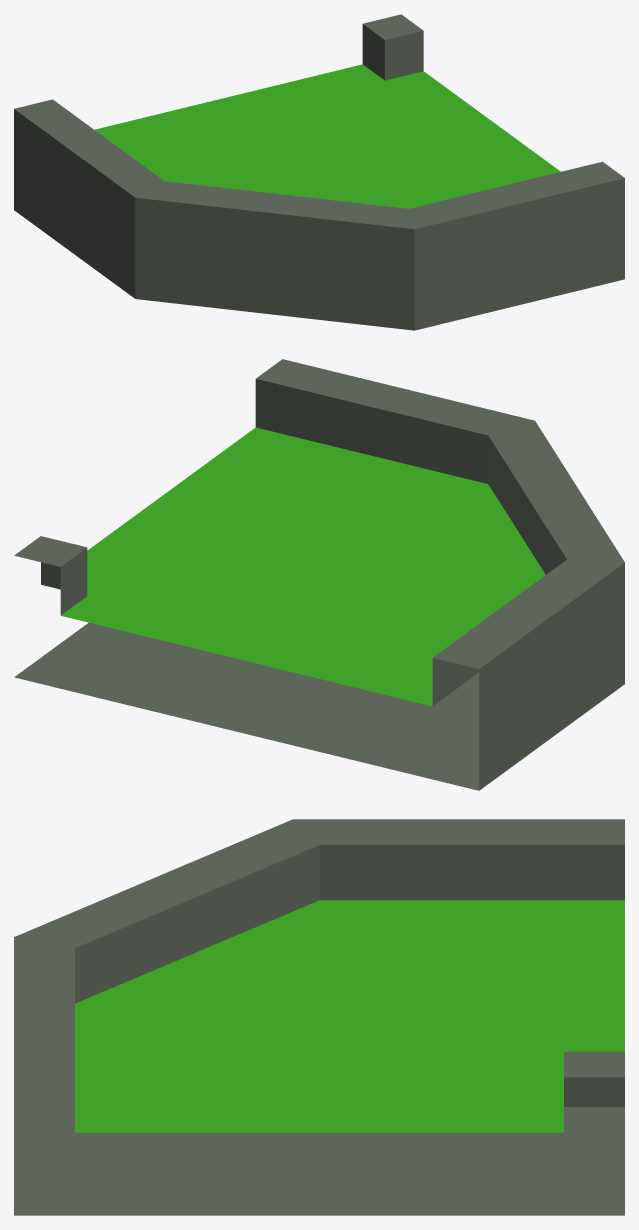
Rendered from CornerAngleWalled.fbx.
3 renders of one model, top to bottom at view 1: azimuth 30°, elevation 25°; view 2: azimuth 150°, elevation 25°; view 3: azimuth 270°, elevation 25°, orthographic. The views are drawn at different scales.
Visible parts, largest first — view 1: CornerAngleWalled; view 2: CornerAngleWalled; view 3: CornerAngleWalled.
Part boxes in pixels (x1,y1,x2,y2): CornerAngleWalled: [14, 14, 624, 330]; CornerAngleWalled: [14, 359, 624, 790]; CornerAngleWalled: [14, 819, 624, 1215].
Bounding box in the file's own units: 200 × 50 × 200.
